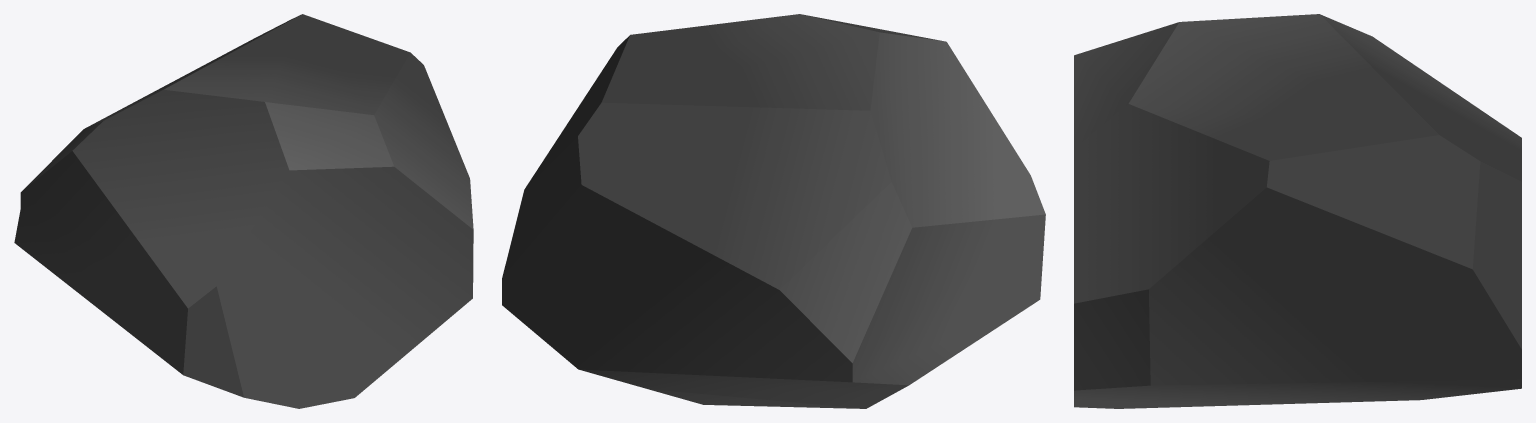
Rendered from kamen.fbx.
3 renders of one model, left to right at view 1: azimuth 30°, elevation 25°; view 2: azimuth 150°, elevation 25°; view 3: azimuth 270°, elevation 25°, orthographic. The views are drawn at different scales.
Visible parts, largest first — view 1: Cube; view 2: Cube; view 3: Cube.
Boxes of the visible parts, <box> form: Cube: <box>14,14,473,408</box>; Cube: <box>502,14,1045,408</box>; Cube: <box>1074,14,1521,408</box>.
Size of the model in its own units: 218 by 181 by 200.
1 material, 1 textured.
